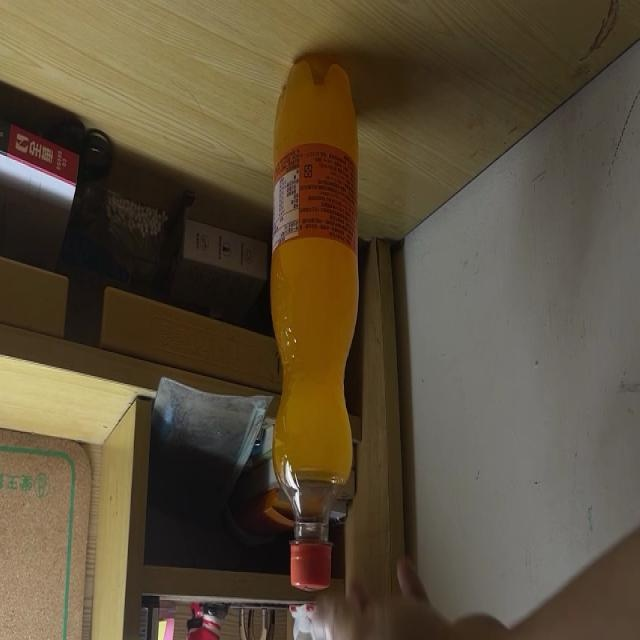Fanta: (268, 63, 361, 588)
